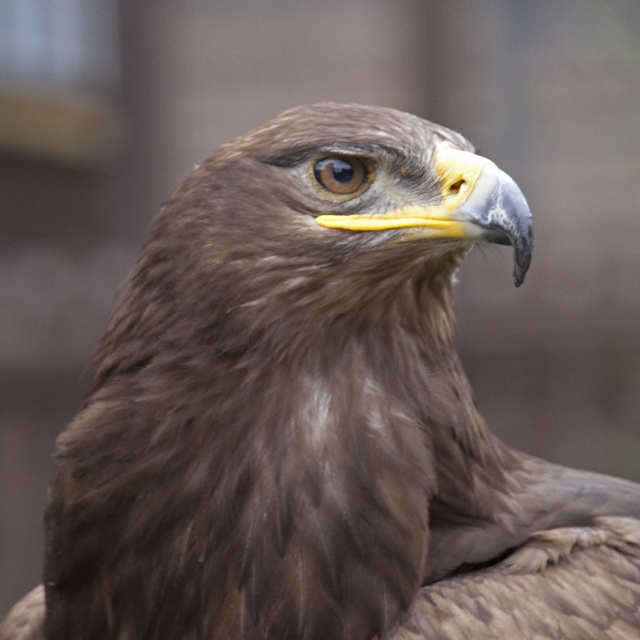Eagle: (0, 100, 640, 639)
